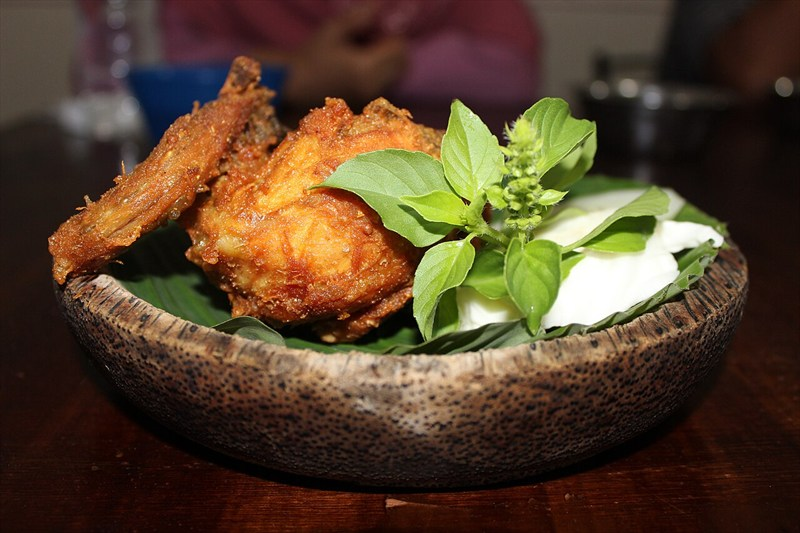Ayam Goreng: (107, 101, 693, 392)
